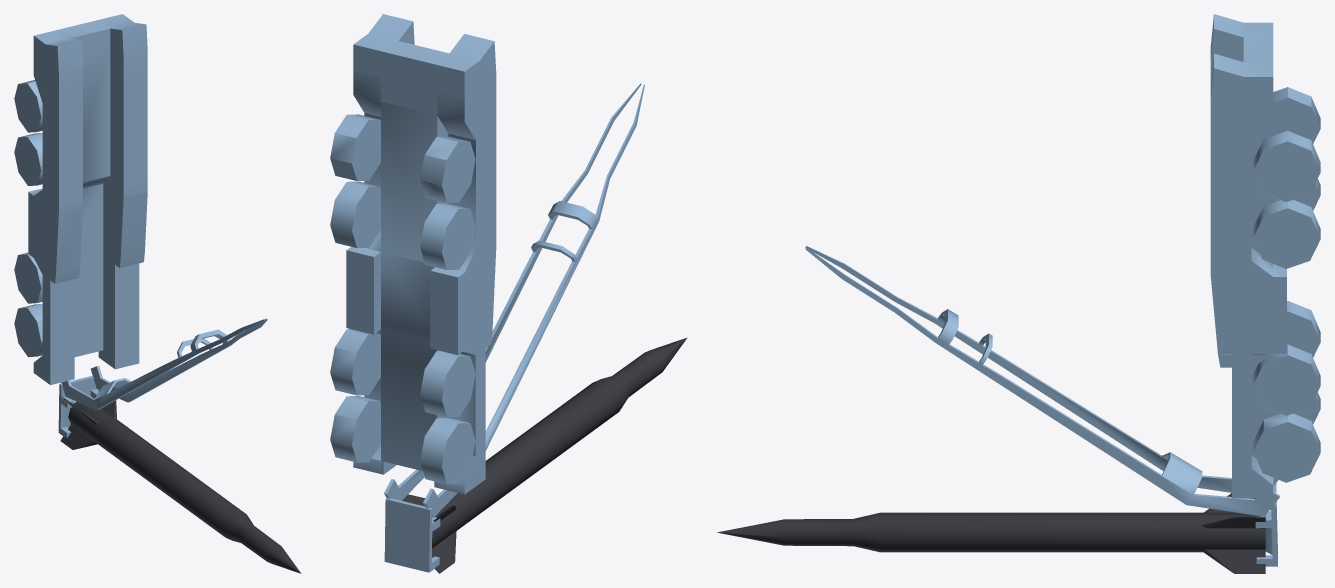
File: maz543.glb
3 views of the same model, side by side, from view 1: azimuth 30°, elevation 25°; view 2: azimuth 150°, elevation 25°; view 3: azimuth 270°, elevation 25° (orthographic). The views are drawn at different scales.
Parts seen in each view (by area): view 1: db_ss1ch_vehicle_p14393_Geometry_1.001, db_ss1ch_launcher_p13716_Geometry_0.001, db_ss1ch_launcher_p14355_Geometry_0.001, db_ss1ch_vehicle_p13777_Geometry_0.001; view 2: db_ss1ch_vehicle_p14393_Geometry_1.001, db_ss1ch_vehicle_p13777_Geometry_0.001, db_ss1ch_launcher_p13716_Geometry_0.001, db_ss1ch_launcher_p14355_Geometry_0.001; view 3: db_ss1ch_vehicle_p14393_Geometry_1.001, db_ss1ch_launcher_p13716_Geometry_0.001, db_ss1ch_vehicle_p13777_Geometry_0.001, db_ss1ch_launcher_p14355_Geometry_0.001.
Part boxes in pixels (box(x1,y1,x2,y2)): db_ss1ch_vehicle_p14393_Geometry_1.001: box(14, 14, 147, 384); db_ss1ch_launcher_p13716_Geometry_0.001: box(60, 390, 301, 573); db_ss1ch_launcher_p14355_Geometry_0.001: box(58, 318, 267, 437); db_ss1ch_vehicle_p13777_Geometry_0.001: box(14, 80, 42, 357); db_ss1ch_vehicle_p14393_Geometry_1.001: box(346, 14, 496, 494); db_ss1ch_vehicle_p13777_Geometry_0.001: box(330, 114, 475, 484); db_ss1ch_launcher_p13716_Geometry_0.001: box(402, 337, 687, 573); db_ss1ch_launcher_p14355_Geometry_0.001: box(384, 83, 644, 572); db_ss1ch_vehicle_p14393_Geometry_1.001: box(1210, 14, 1286, 498); db_ss1ch_launcher_p13716_Geometry_0.001: box(717, 493, 1265, 573); db_ss1ch_vehicle_p13777_Geometry_0.001: box(1253, 87, 1320, 482); db_ss1ch_launcher_p14355_Geometry_0.001: box(805, 246, 1279, 566).
Bounding box in the file's own units: 4.7 × 20.87 × 22.
